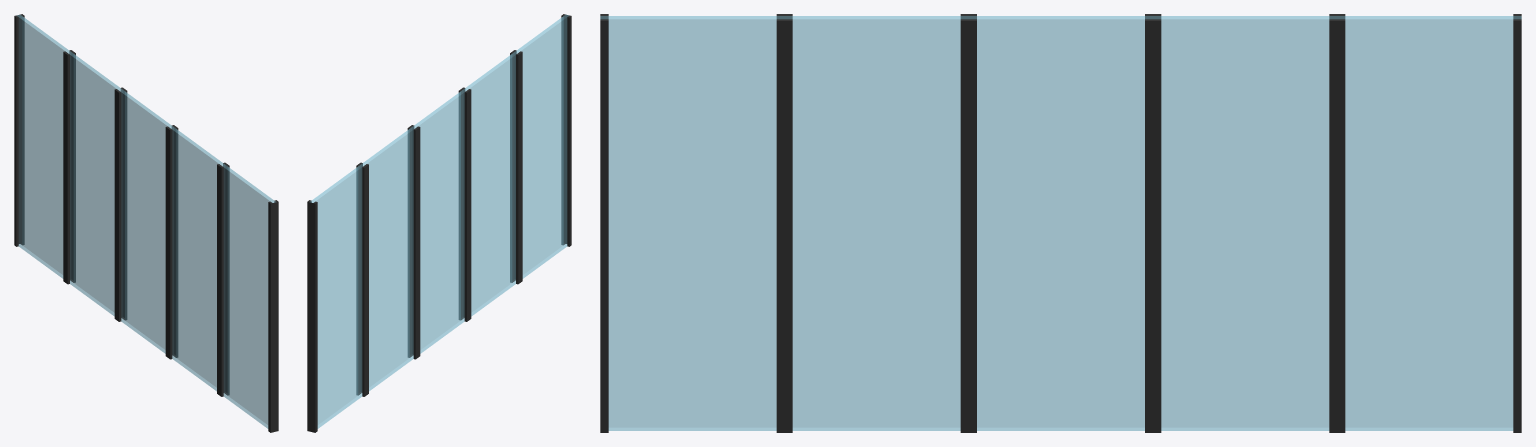
File: GrandeFenetre.glb
The picture shows the model from 3 angles, left to right: view 1: azimuth 30°, elevation 25°; view 2: azimuth 150°, elevation 25°; view 3: azimuth 270°, elevation 25°; orthographic projection. The views are drawn at different scales.
Visible parts, largest first — view 1: Cube.008; view 2: Cube.008; view 3: Cube.008.
Part boxes in pixels (x1=…): Cube.008: x1=14, y1=14, x2=278, y2=432; Cube.008: x1=307, y1=14, x2=571, y2=432; Cube.008: x1=600, y1=14, x2=1521, y2=432.
Size of the model in its own units: 0.0759 by 2.04 by 4.14.
